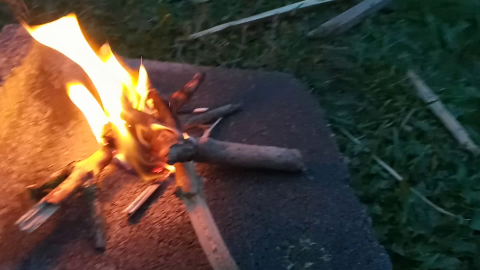fire: (16, 8, 199, 181)
